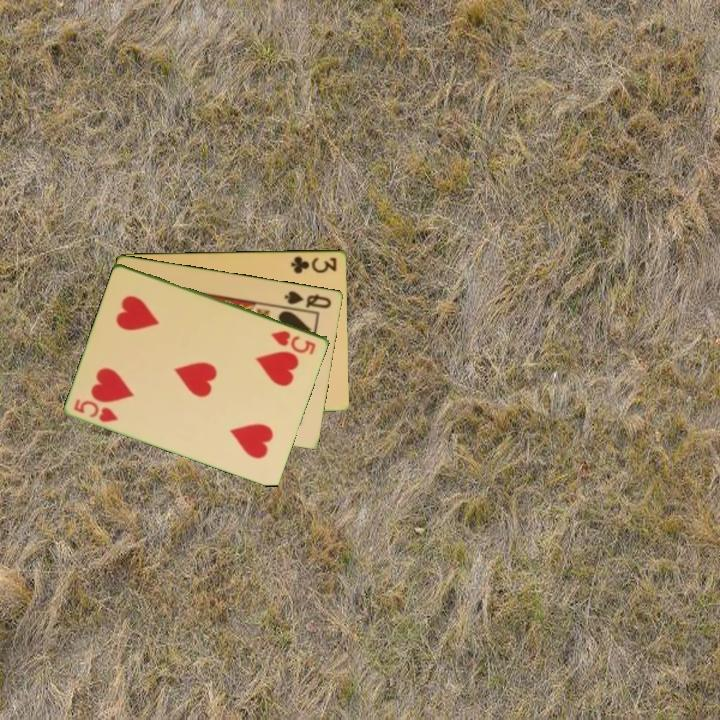3c: (287, 253, 340, 276)
5h: (268, 327, 319, 357), (70, 395, 121, 425)
Qs: (281, 287, 334, 311)
